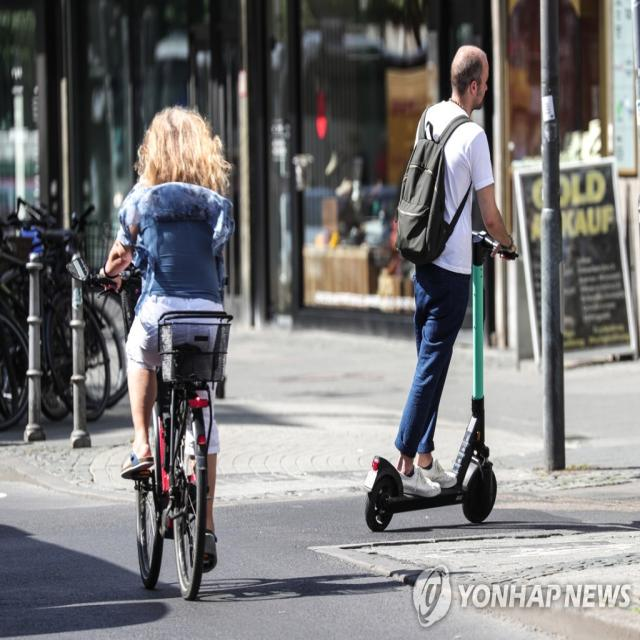non-helmet: (336, 5, 514, 543)
